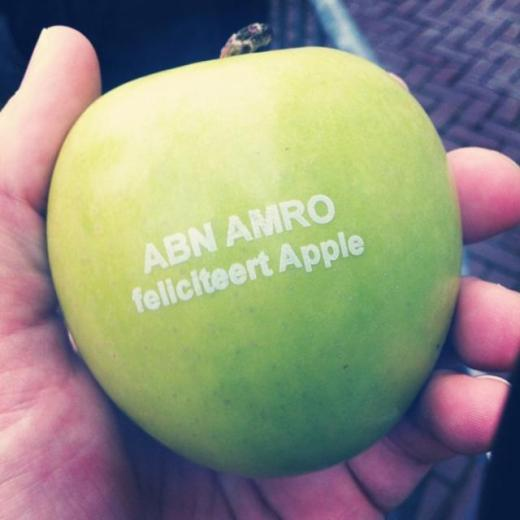Apple: (46, 23, 462, 479)
